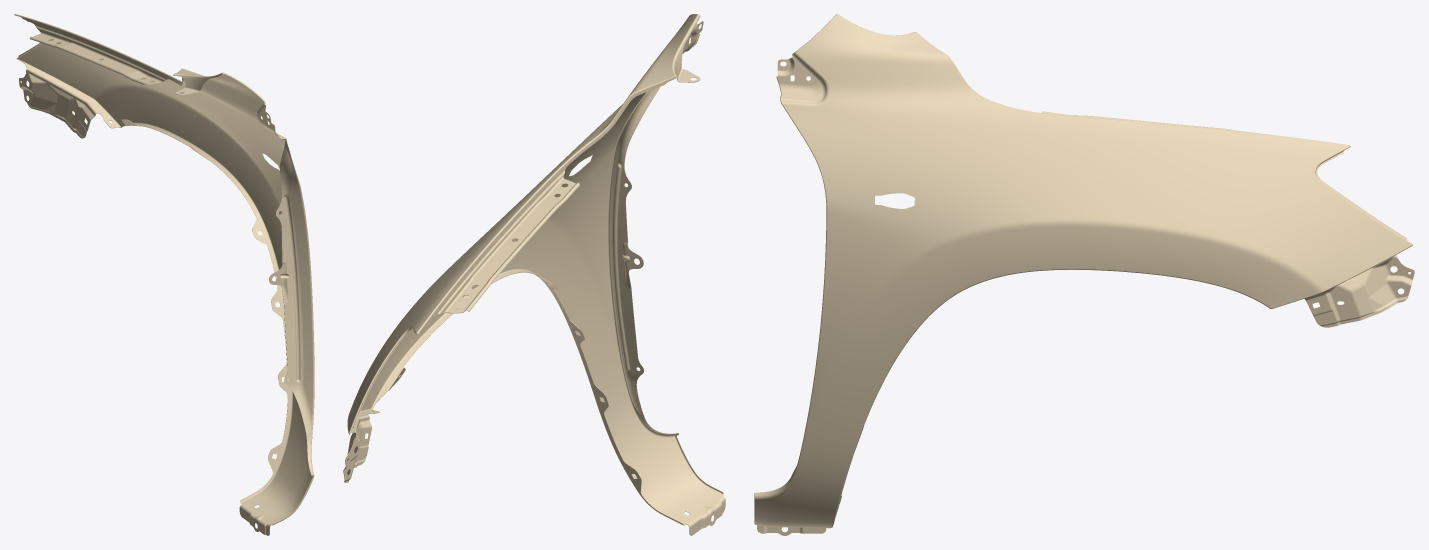
Rendered from RAV4-youyiziban.glb.
3 renders of one model, left to right at view 1: azimuth 30°, elevation 25°; view 2: azimuth 150°, elevation 25°; view 3: azimuth 270°, elevation 25°, orthographic. The views are drawn at different scales.
Visible parts, largest first — view 1: Face (×20); view 2: Face (×26); view 3: Face (×26).
Part boxes in pixels (x1=…): Face (×20): x1=18, y1=17, x2=312, y2=518; Face (×26): x1=347, y1=14, x2=711, y2=525; Face (×26): x1=782, y1=15, x2=1411, y2=519.
Size of the model in its own units: 0.2403 by 0.915 by 1.06.
